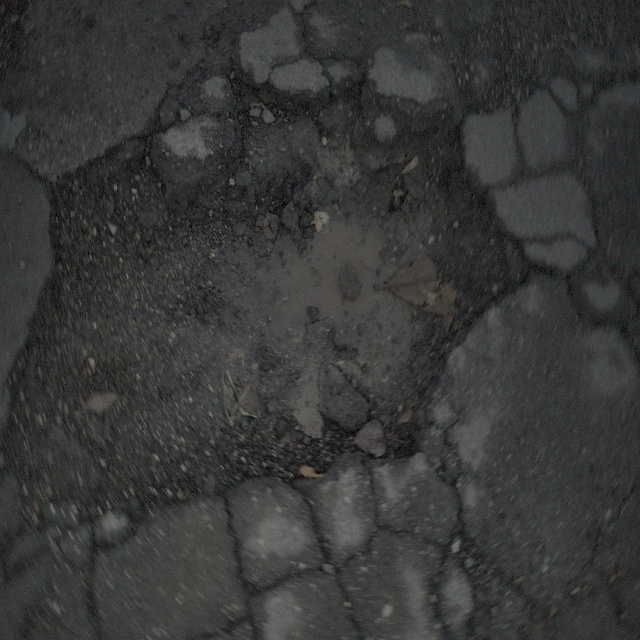pothole: (20, 83, 538, 544)
